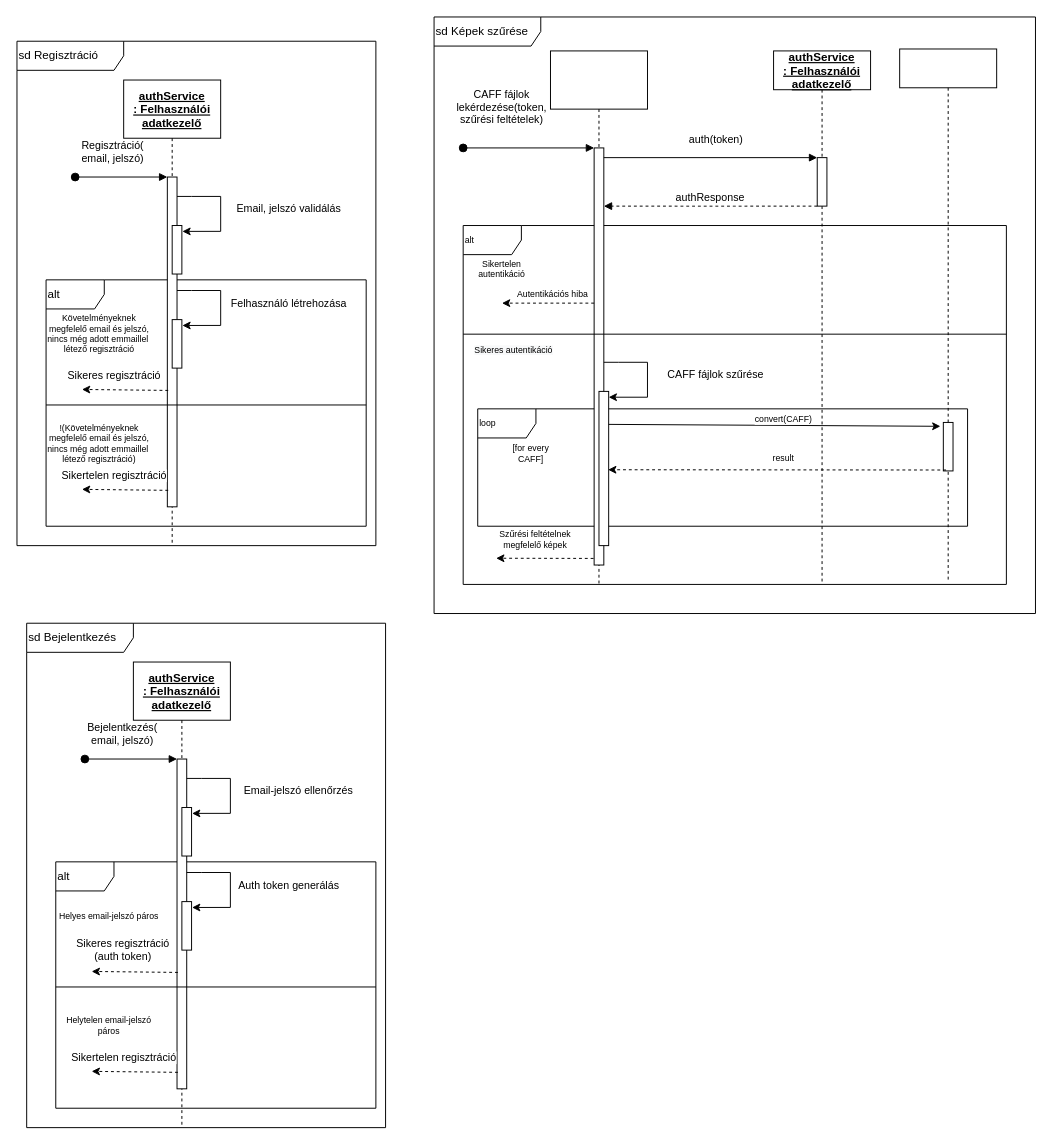
Some shapes in this 1052 by 1145 pixel diagram are drawn without their labels. The shapes that lost their labels are listed below. From the top down, each one's box as (x1, y1, x2, y2) in pixels, then its label:
(550, 50, 647, 584): caffService : CAFF adatkezelő
(899, 48, 997, 582): caffParser : CAFF-parser
